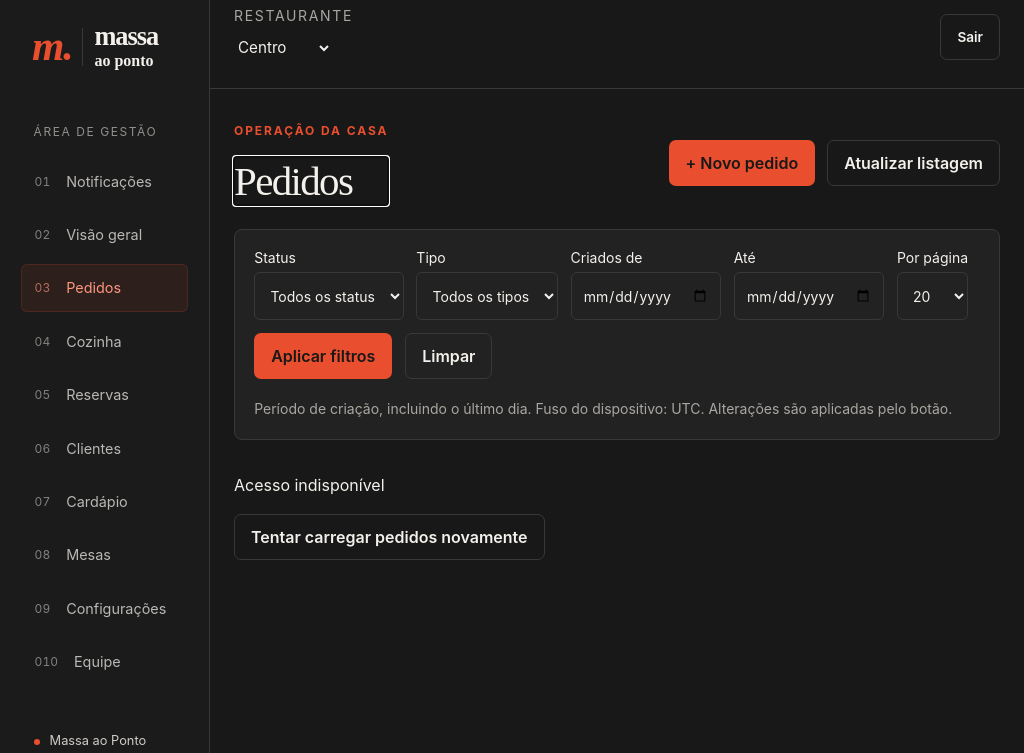
Test: Orders UI › shows API errors and retries the list
expect the message reads "Acesso indisponível": met, box [234,475,384,495]
Click the button "Tentar carregar pedidos novamente". click: click(389, 537)
box: [234,514,544,560]
(page scrolled)
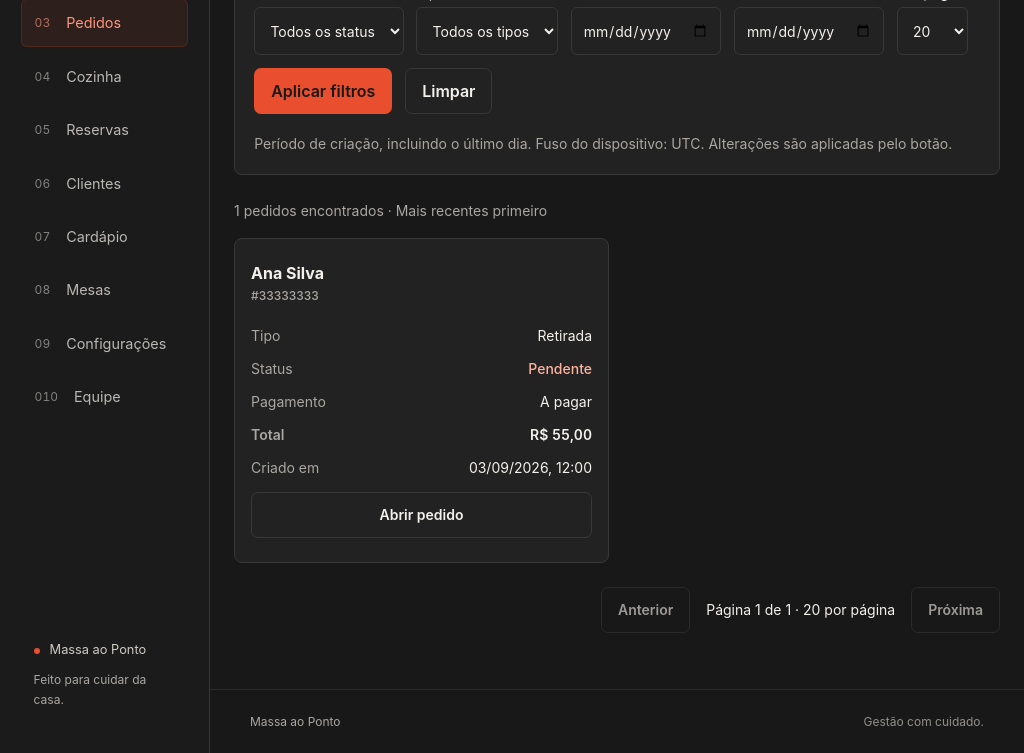
expect the button "Abrir pedido" is shown: met, box [251,492,592,538]
